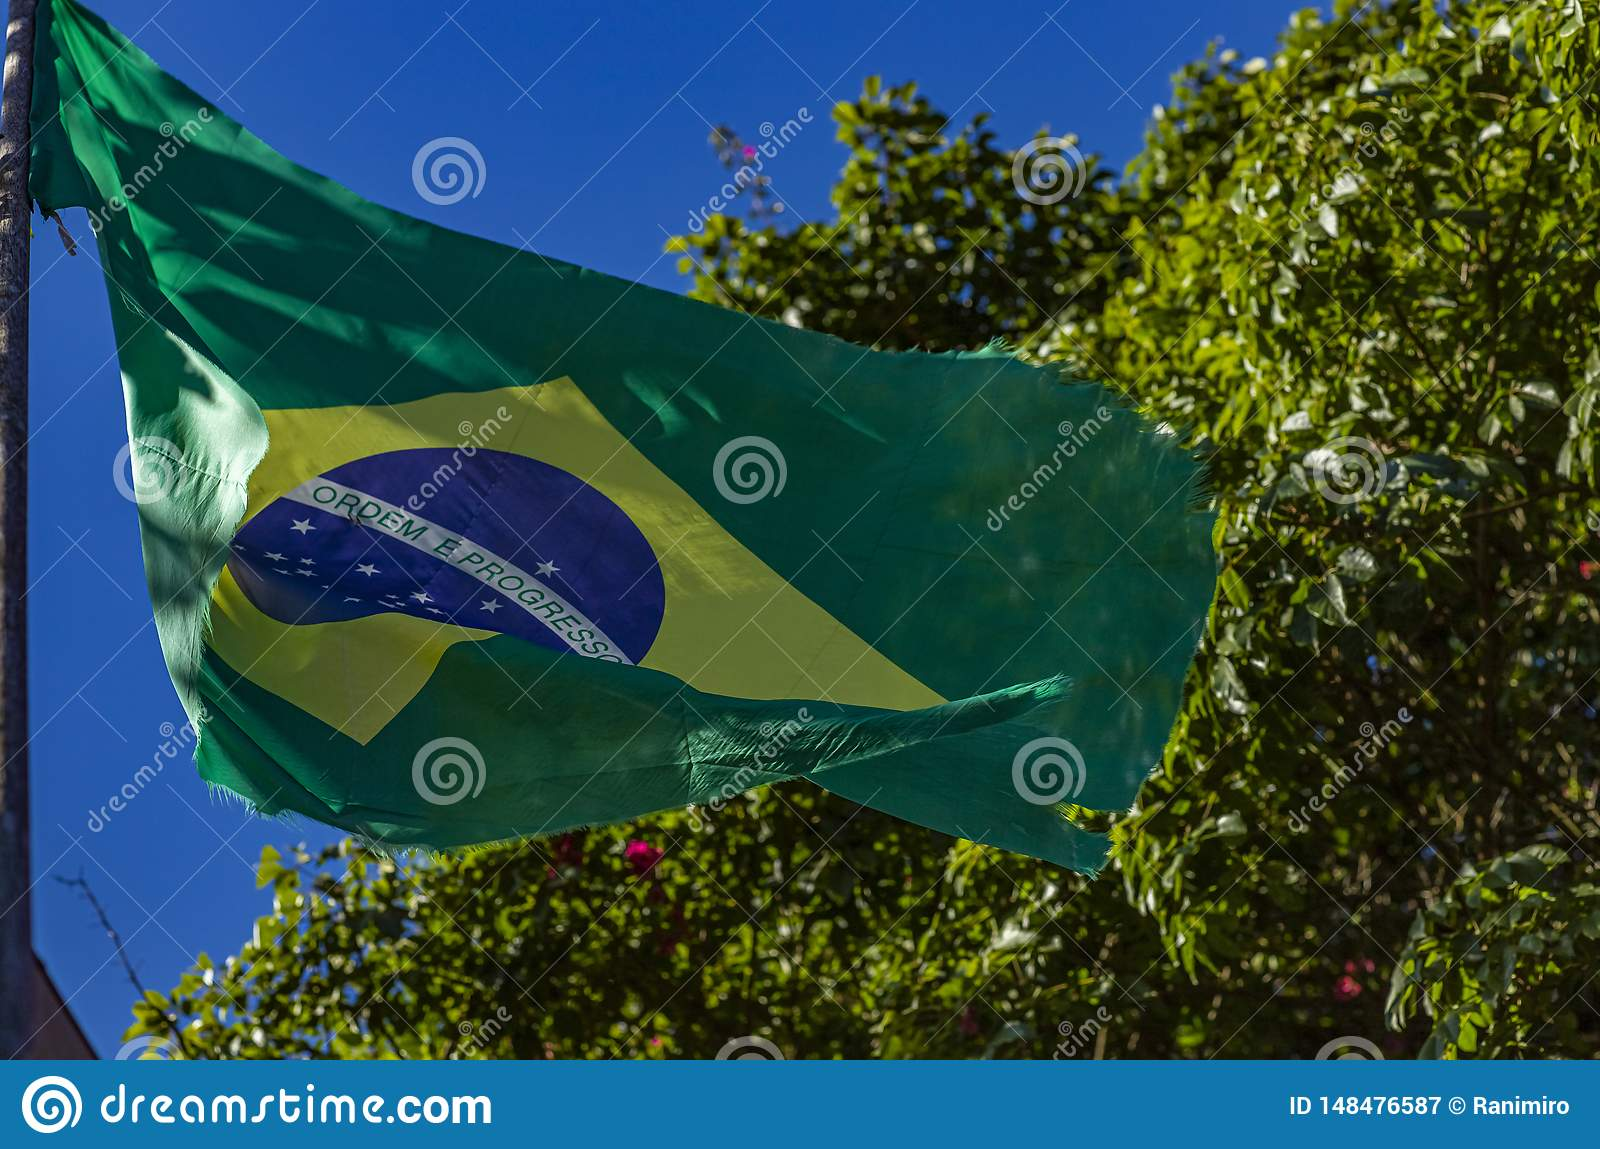Flag: (39, 4, 1224, 870)
